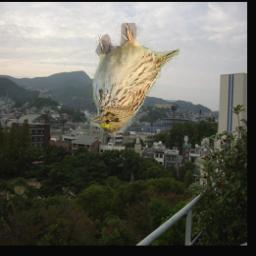Sparrow: (87, 23, 179, 137)
